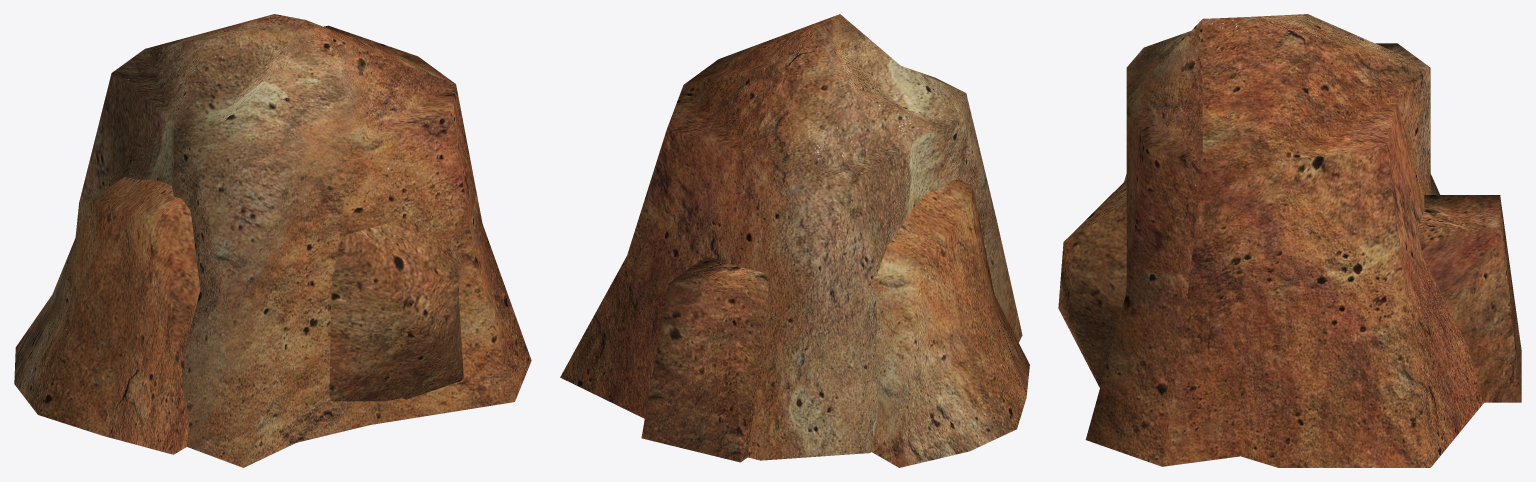
Rendered from SmallRock_01.fbx.
3 views of the same model, side by side, from view 1: azimuth 30°, elevation 25°; view 2: azimuth 150°, elevation 25°; view 3: azimuth 270°, elevation 25° (orthographic). The views are drawn at different scales.
Visible parts, largest first — view 1: Small_Rock; view 2: Small_Rock; view 3: Small_Rock.
Boxes of the visible parts, bbox=[...] form: Small_Rock: bbox=[14, 14, 531, 467]; Small_Rock: bbox=[560, 14, 1029, 467]; Small_Rock: bbox=[1058, 14, 1521, 467].
Size of the model in its own units: 1.99 by 1.59 by 1.86.
